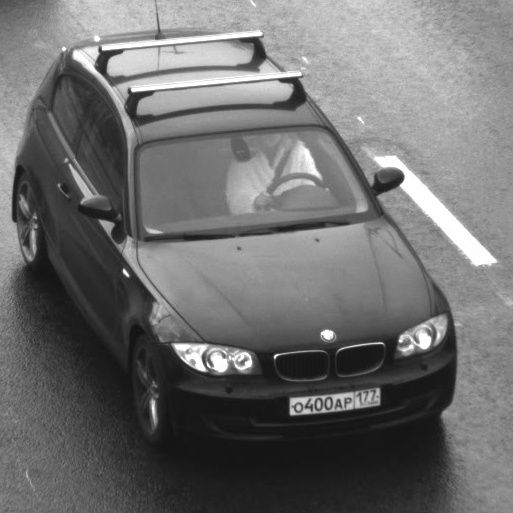plate: (278, 375, 390, 423)
